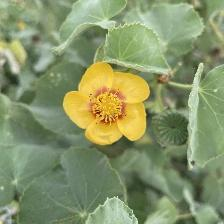indian mallow: (63, 62, 152, 150)
